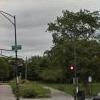Tree: (43, 5, 100, 67)
